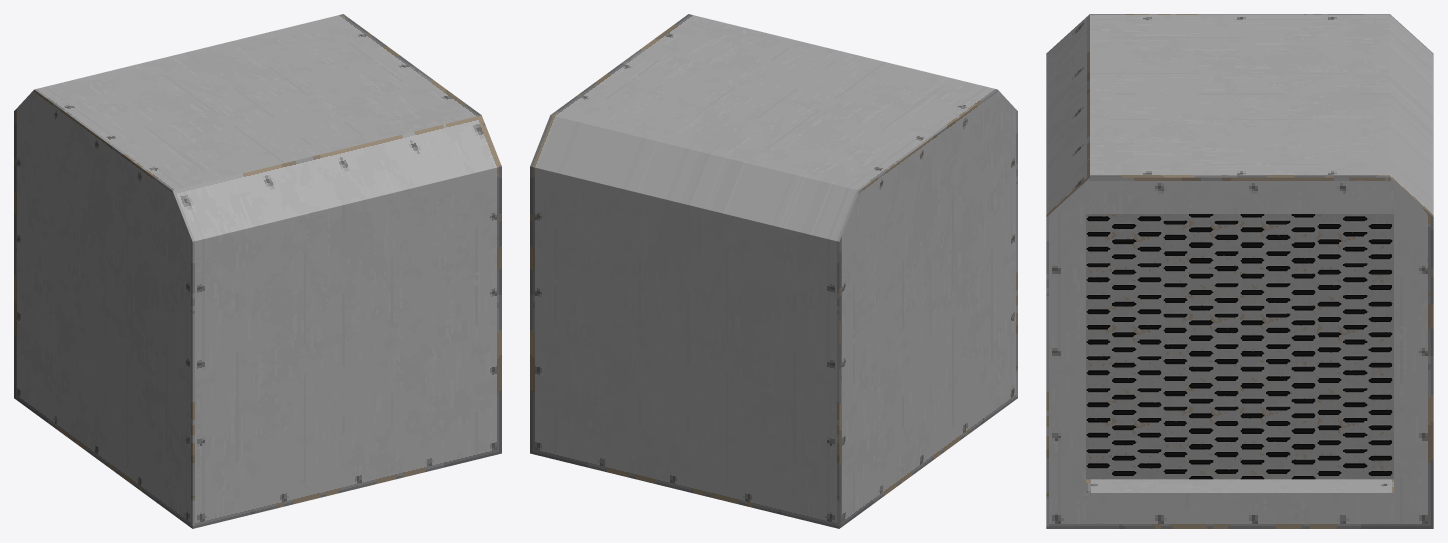
Rendered from speaker.glb.
The picture shows the model from 3 angles, left to right: view 1: azimuth 30°, elevation 25°; view 2: azimuth 150°, elevation 25°; view 3: azimuth 270°, elevation 25°; orthographic projection. The views are drawn at different scales.
Visible parts, largest first — view 1: Cube; view 2: Cube; view 3: Cube.
Part boxes in pixels (x1,y1,x2,y2): Cube: (14,14,501,528); Cube: (530,14,1017,528); Cube: (1046,14,1433,528).
Bounding box in the file's own units: 0.4 × 0.4 × 0.4.
Materials: 1 (1 with a texture image).
